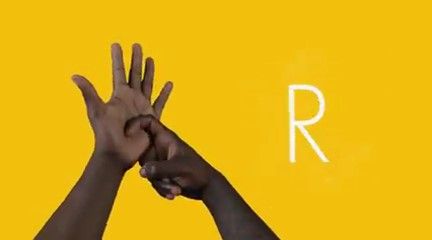R: (69, 36, 211, 214)
